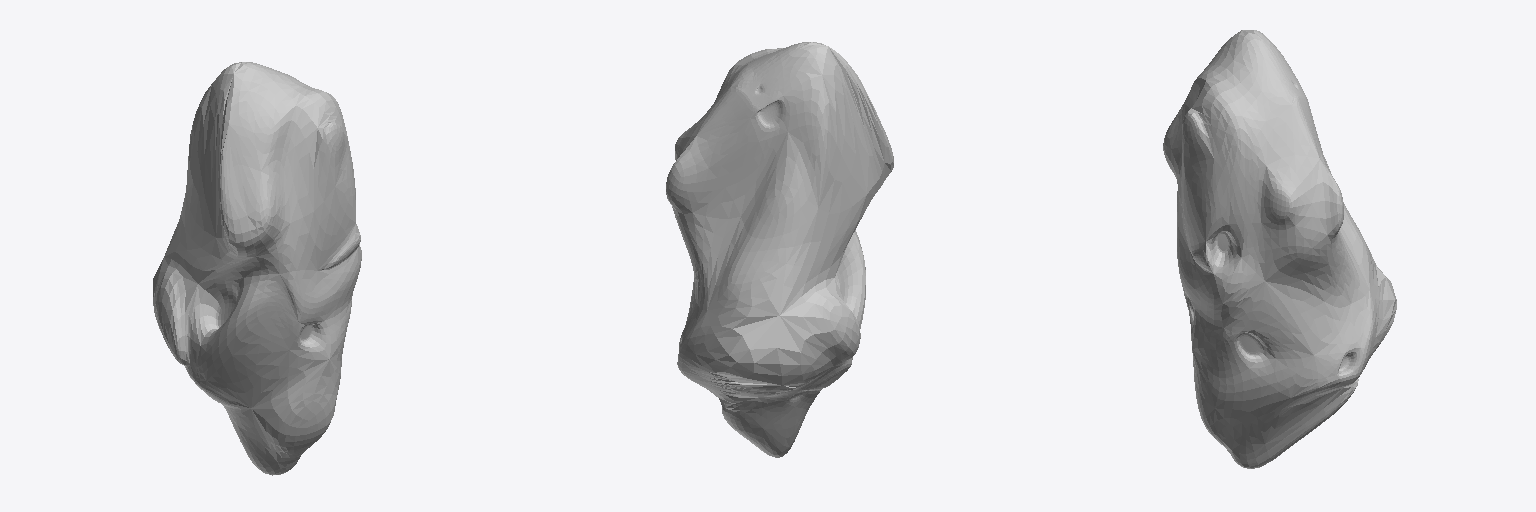
Rendered from asteroid.obj.
3 renders of one model, left to right at view 1: azimuth 30°, elevation 25°; view 2: azimuth 150°, elevation 25°; view 3: azimuth 270°, elevation 25°, orthographic.
Parts seen in each view (by area): view 1: meteor_Cube.002; view 2: meteor_Cube.002; view 3: meteor_Cube.002.
Part boxes in pixels (x1,y1,x2,y2): meteor_Cube.002: (153, 62, 361, 475); meteor_Cube.002: (666, 42, 893, 457); meteor_Cube.002: (1163, 30, 1396, 468).
Bounding box in the file's own units: 40.48 × 92.09 × 46.54.